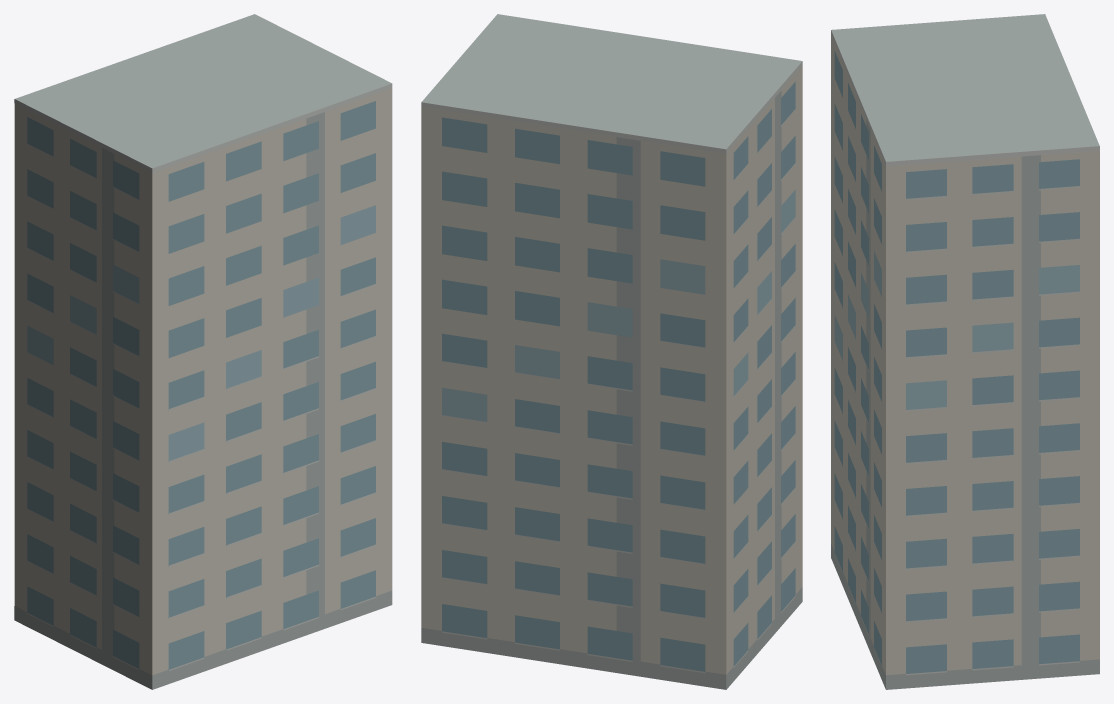
Rendered from residential-2bc15771-f328-422a-8e9b-f0d6c6dae11e.glb.
3 renders of one model, left to right at view 1: azimuth 30°, elevation 25°; view 2: azimuth 150°, elevation 25°; view 3: azimuth 270°, elevation 25°, orthographic. The views are drawn at different scales.
Parts seen in each view (by area): view 1: residential-2bc15771-f328-422a-8e9b-f0d6c6dae11e.tmp; view 2: residential-2bc15771-f328-422a-8e9b-f0d6c6dae11e.tmp; view 3: residential-2bc15771-f328-422a-8e9b-f0d6c6dae11e.tmp.
Part boxes in pixels (x1,y1,x2,y2): residential-2bc15771-f328-422a-8e9b-f0d6c6dae11e.tmp: [14, 14, 392, 689]; residential-2bc15771-f328-422a-8e9b-f0d6c6dae11e.tmp: [421, 14, 802, 689]; residential-2bc15771-f328-422a-8e9b-f0d6c6dae11e.tmp: [831, 14, 1099, 689].
Size of the model in its own units: 16.83 by 28 by 12.92.
